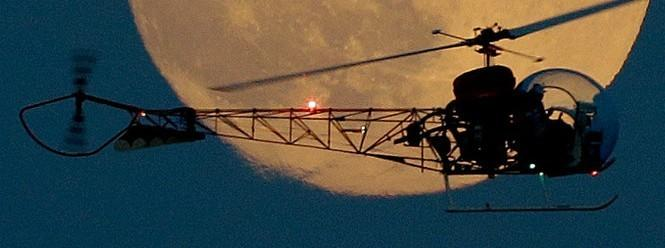airplane: (14, 2, 645, 215)
